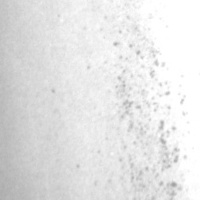pitted_surface: (97, 1, 199, 199)
